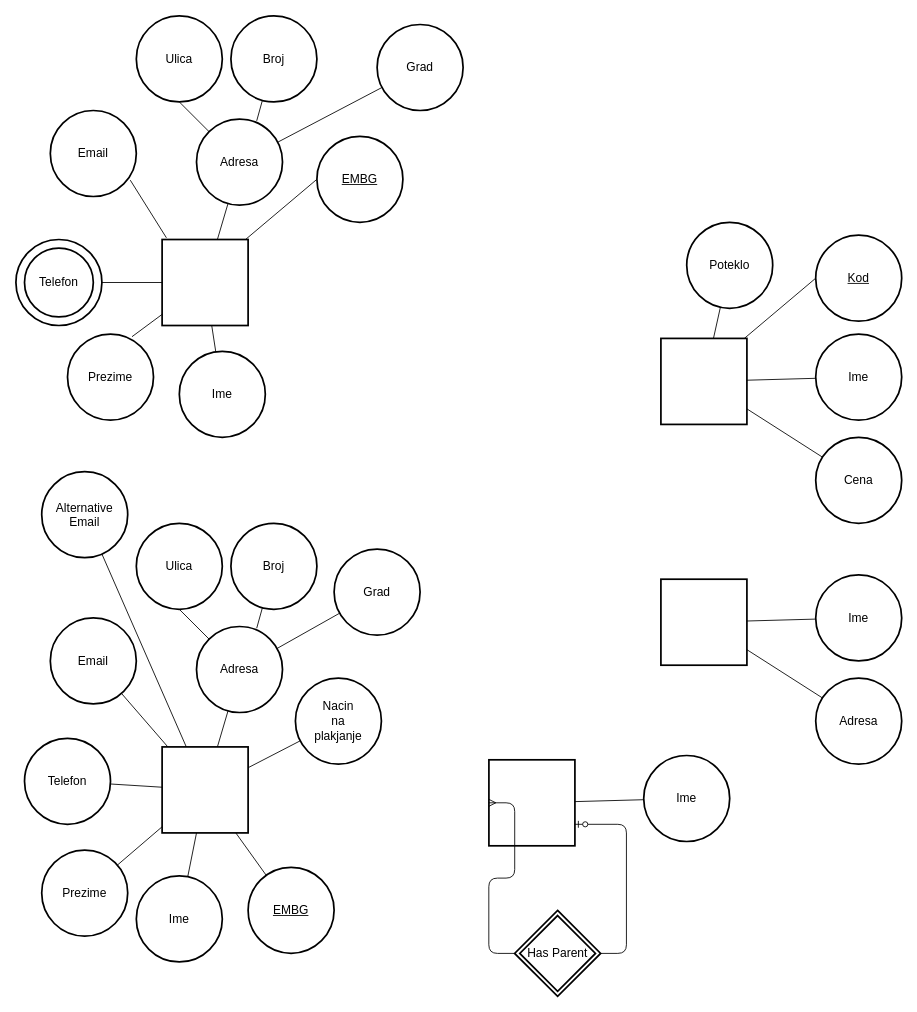
The diagram is 917 pixels wide and 1012 high, and some of its shapes have lost their labels. The shapes that lost their labels are listed below. From the top down, each one's centre as x and y in pixels, then its label:
At [205,282]: "Vraboten".
At [703,381]: "Produkt".
At [703,622]: "Prodavnica".
At [205,789]: "Kupuvac".
At [531,802]: "Kategorija".
